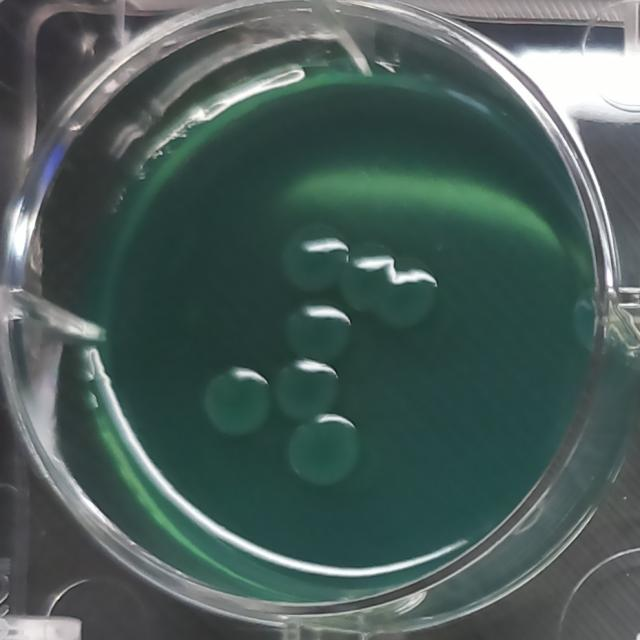vibrio: (284, 410, 370, 489), (198, 362, 272, 438), (277, 219, 349, 292), (272, 353, 341, 426), (281, 299, 354, 367), (337, 240, 397, 316), (380, 260, 441, 330)
